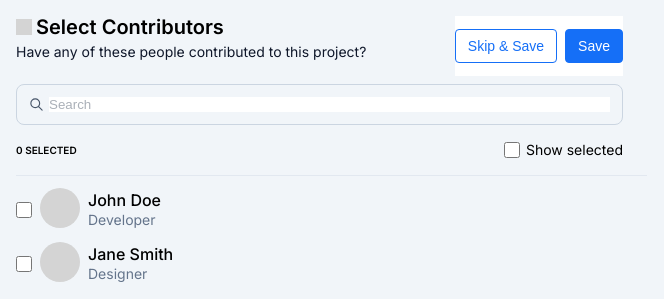
Test: ContributorsPopup › filters contributors based on search input
In the field with placeholder "Search": (330, 104) [49,97,610,112], type "John"
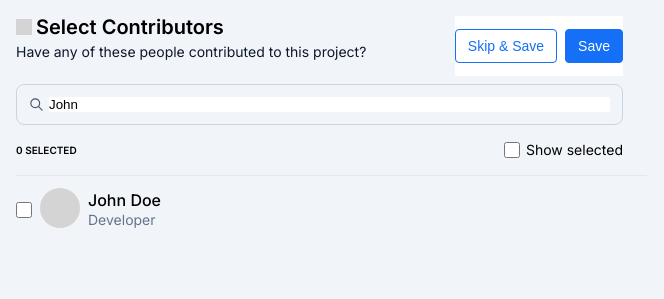
Expected: the text "John Doe" is shown, [88,190,161,210]
Now the text "Jane Smith" is gone
